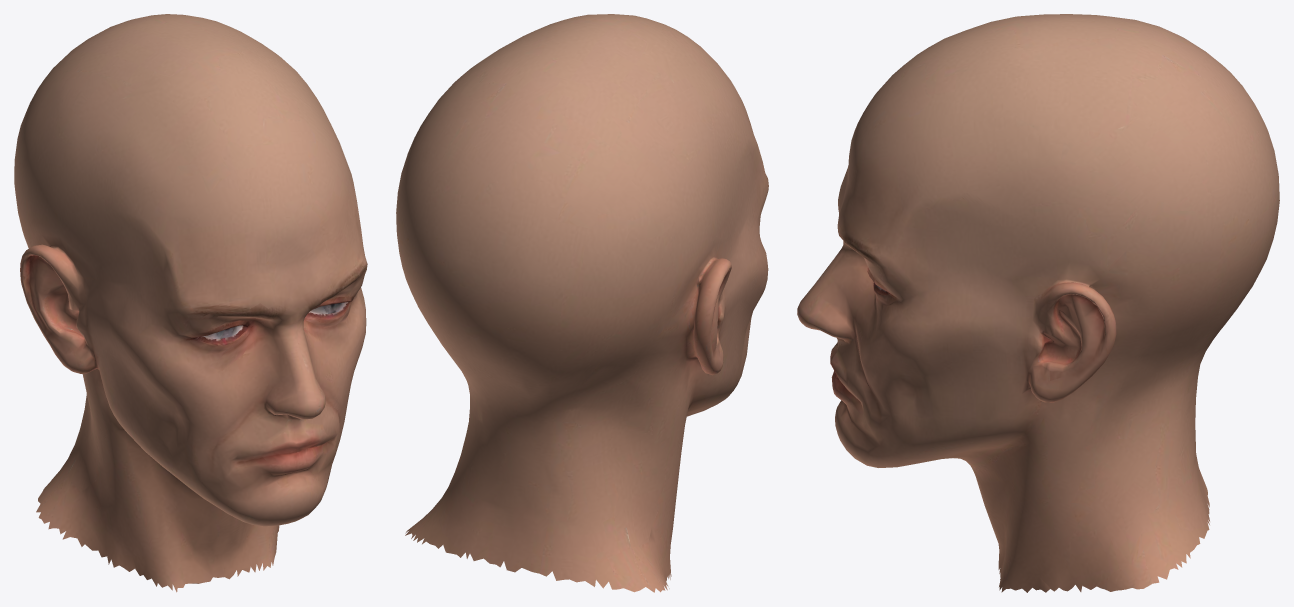
File: head_f2.glb
3 renders of one model, left to right at view 1: azimuth 30°, elevation 25°; view 2: azimuth 150°, elevation 25°; view 3: azimuth 270°, elevation 25°, orthographic. The views are drawn at different scales.
Parts seen in each view (by area): view 1: Head; view 2: Head; view 3: Head.
Part boxes in pixels (left/top/right/bottom): Head: left=14, top=14, right=367, bottom=592; Head: left=396, top=14, right=768, bottom=592; Head: left=797, top=14, right=1279, bottom=592.
Bounding box in the file's own units: 0.8209 × 1.36 × 1.1.
1 material, 1 textured.
